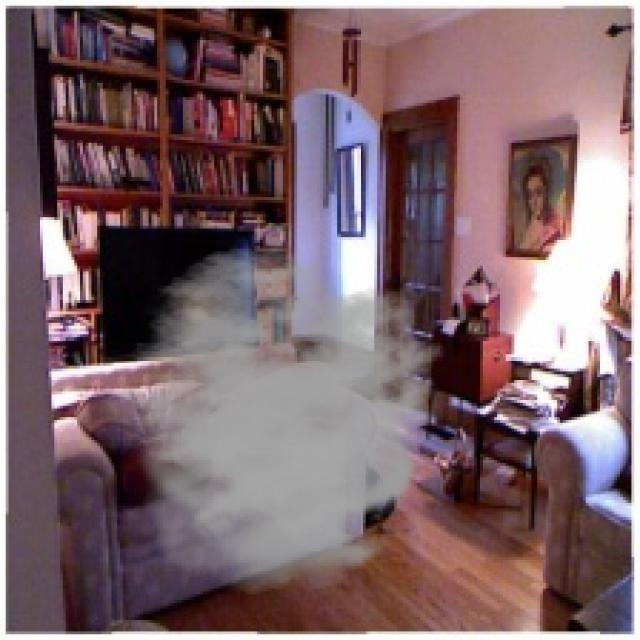Smoke: (94, 246, 446, 594)
